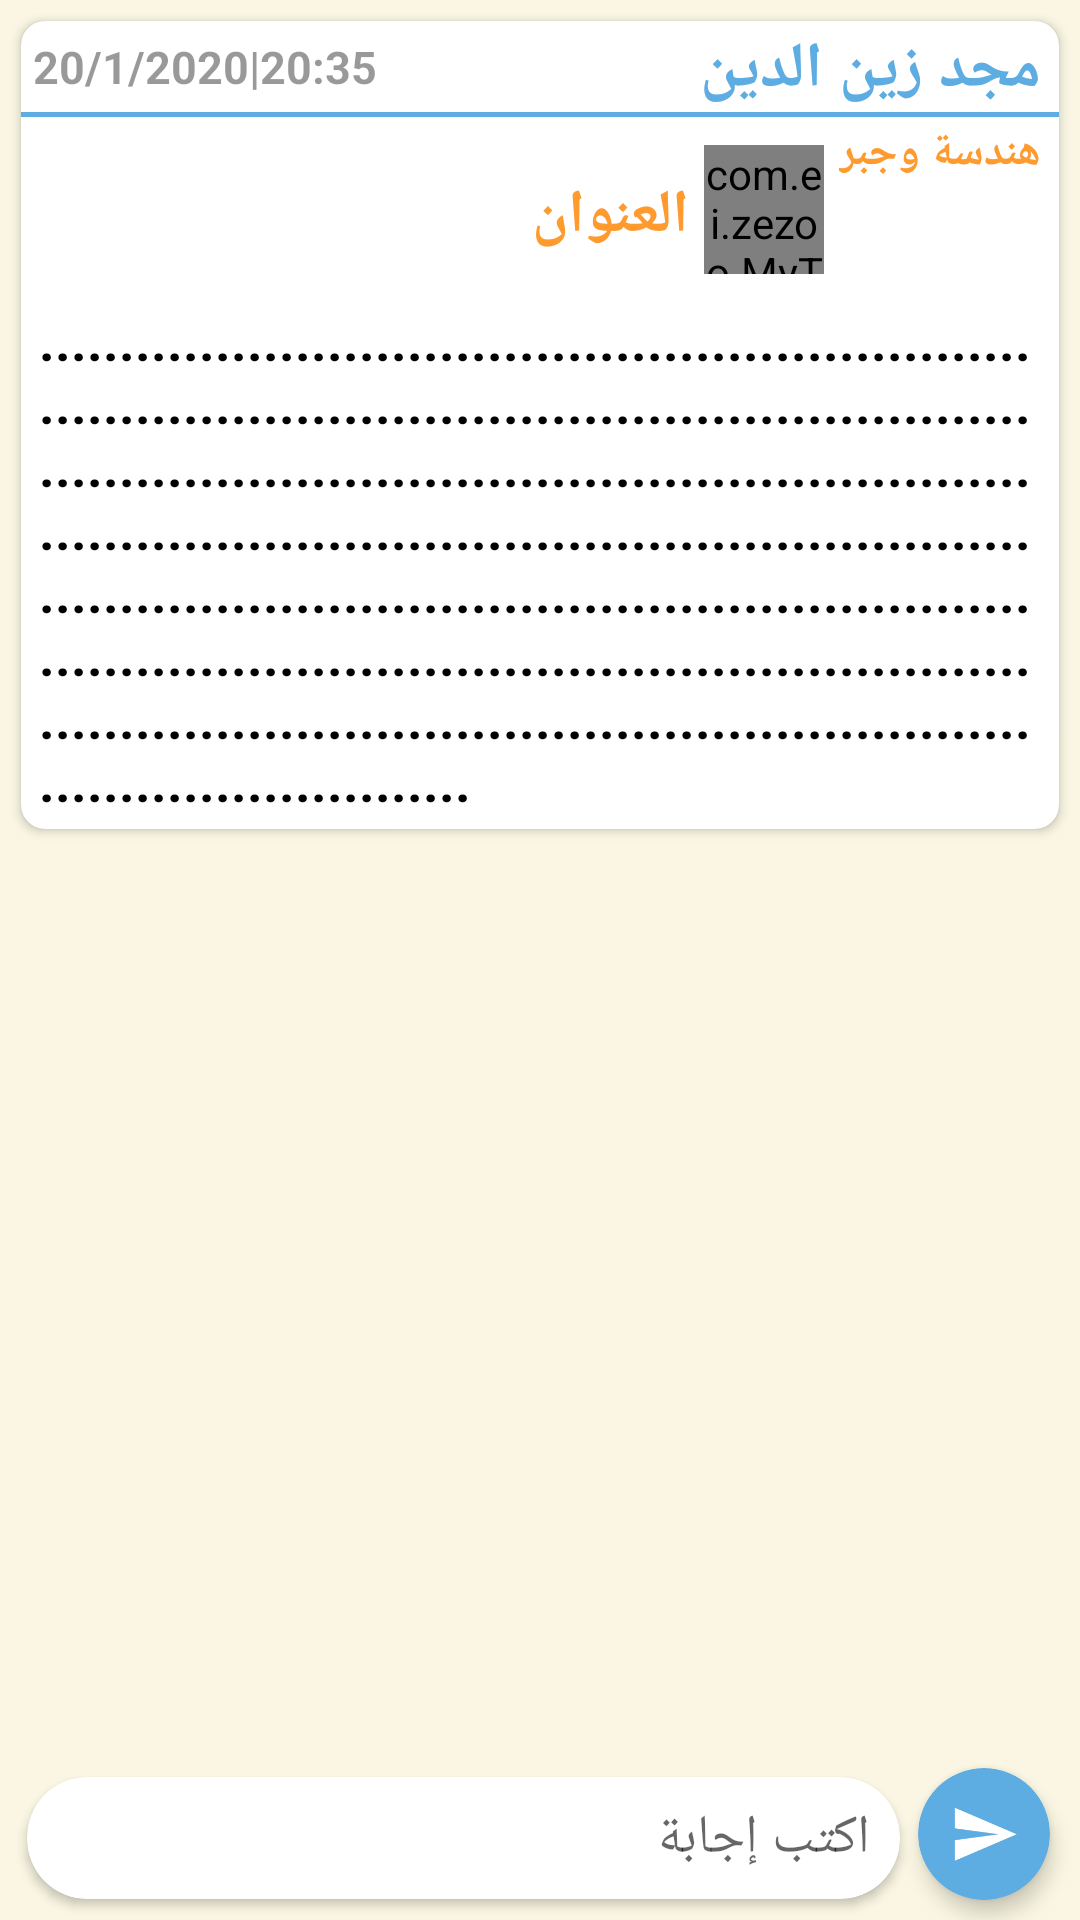

Icon click points for this 1080px x 1920px phone screenshot, format [x,y]:
floating send: [984,1834]
